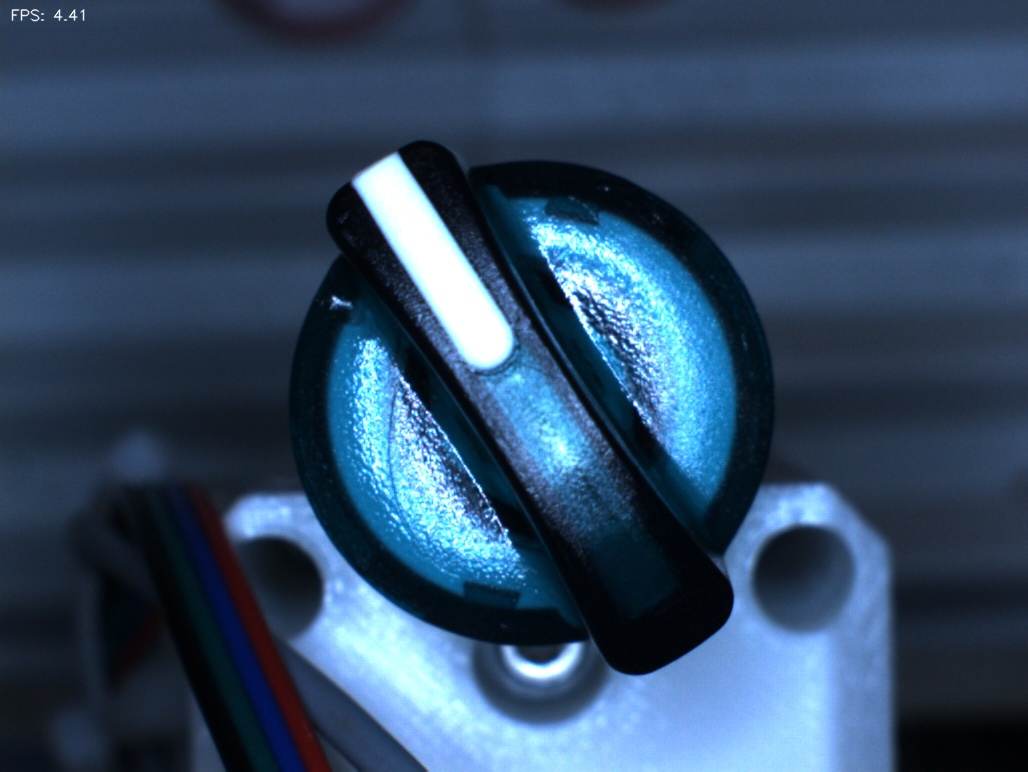Choc: (297, 270, 373, 346)
